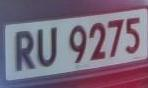2: (88, 17, 109, 67)
5: (123, 13, 143, 60)
7: (106, 15, 126, 63)
9: (66, 20, 90, 70)
R: (13, 27, 38, 75)
U: (36, 24, 61, 71)
